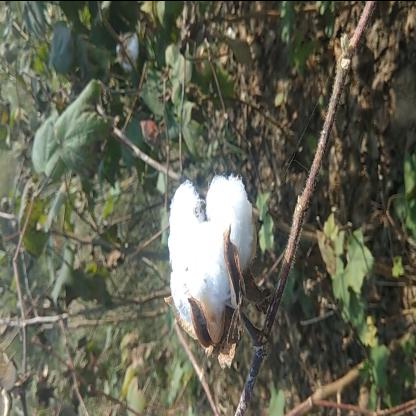cotton_ready: (164, 169, 286, 357)
